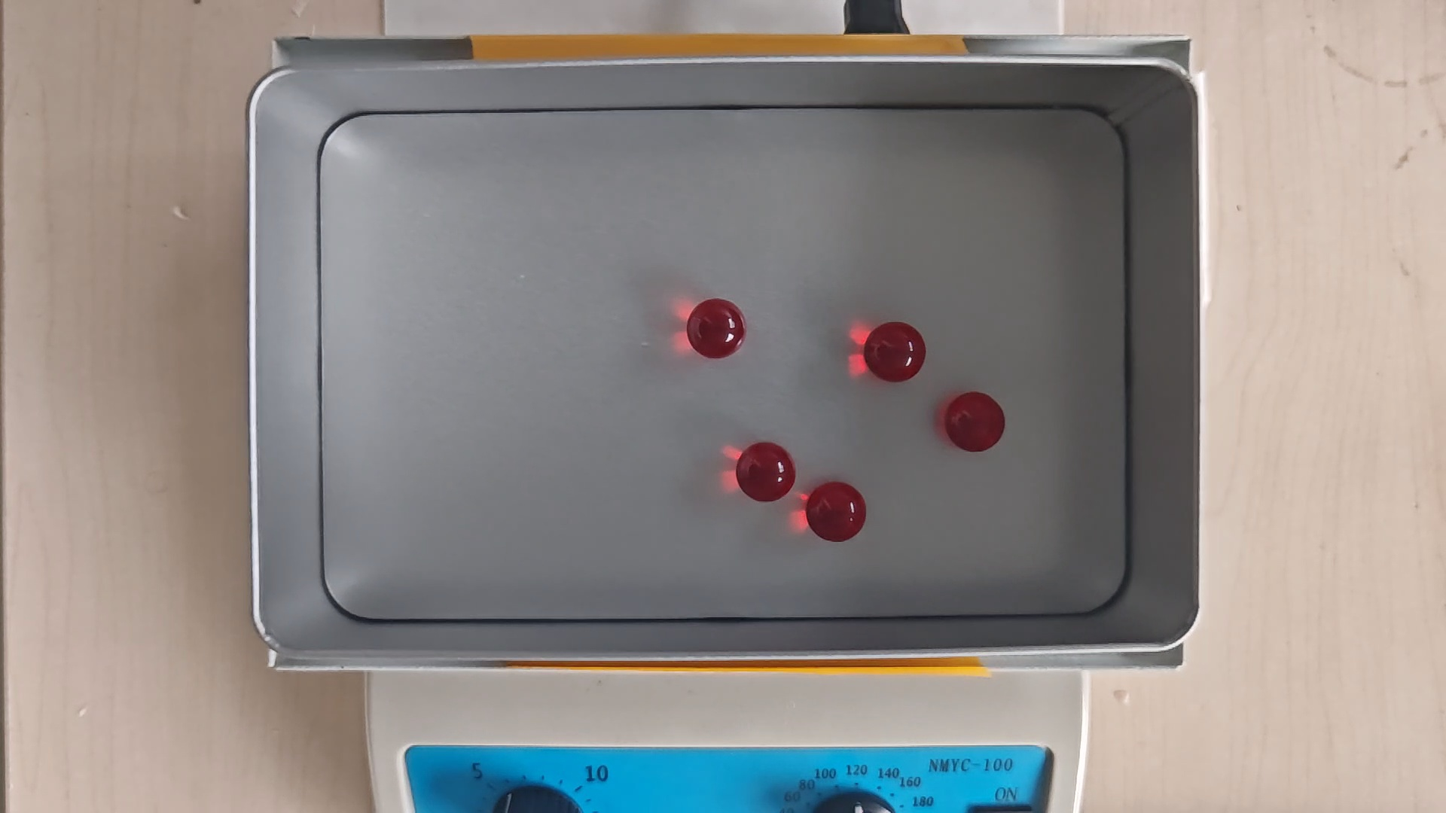ball: (946, 390, 1005, 453), (865, 321, 926, 381), (739, 442, 797, 503), (689, 299, 746, 359), (808, 481, 865, 541)
container: (316, 105, 1127, 616)
